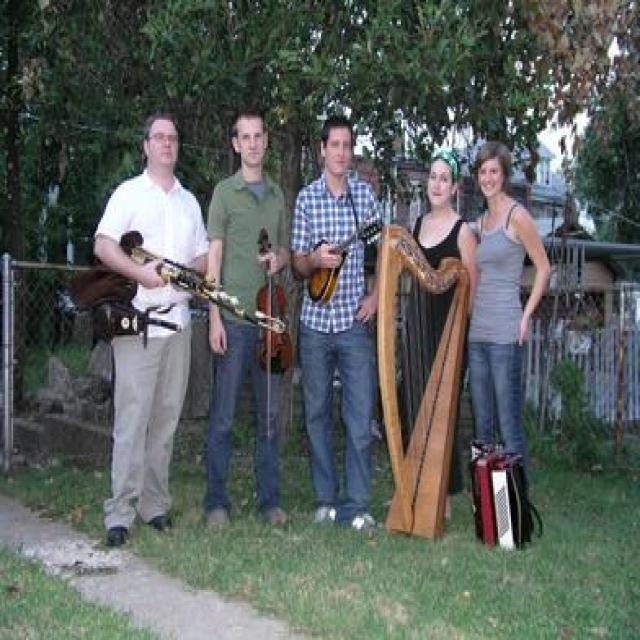harp: (372, 222, 468, 538)
violin: (250, 221, 298, 374)
